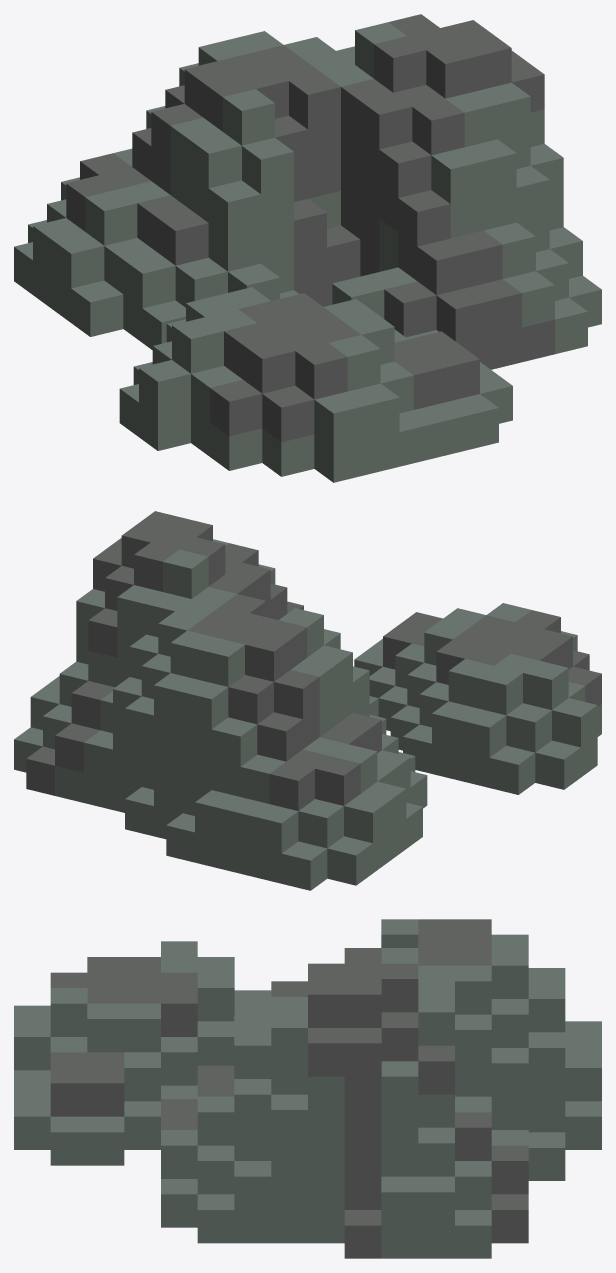
Rendered from HugeRocks0.obj.
3 renders of one model, top to bottom at view 1: azimuth 30°, elevation 25°; view 2: azimuth 150°, elevation 25°; view 3: azimuth 270°, elevation 25°, orthographic. The views are drawn at different scales.
Size of the model in its own units: 15 by 7 by 16.
